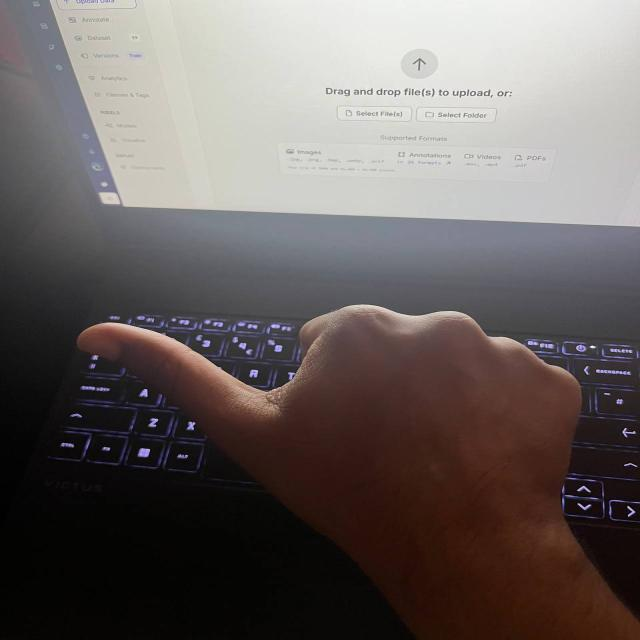hand thumb up: (65, 303, 588, 543)
